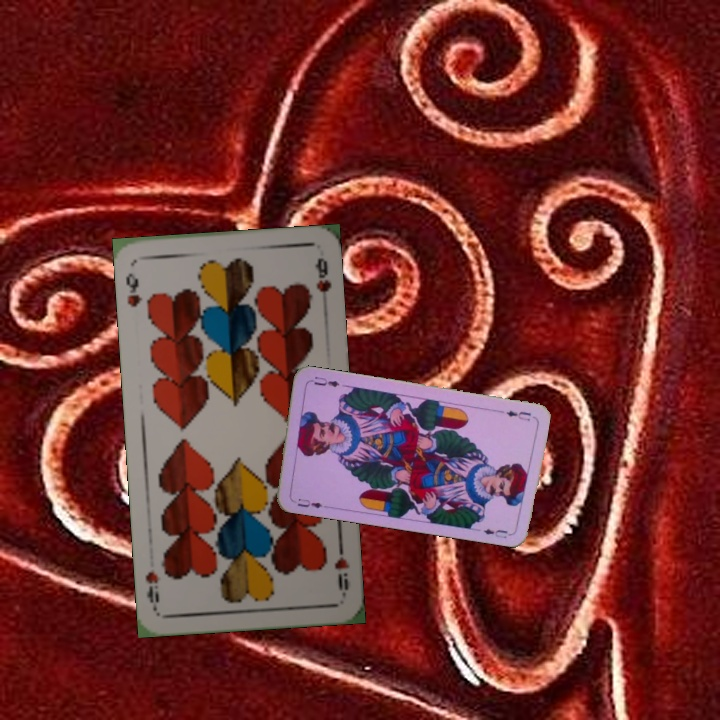EU: (293, 494, 329, 511), (502, 406, 533, 423)
H9: (330, 539, 352, 598), (121, 269, 145, 309)
